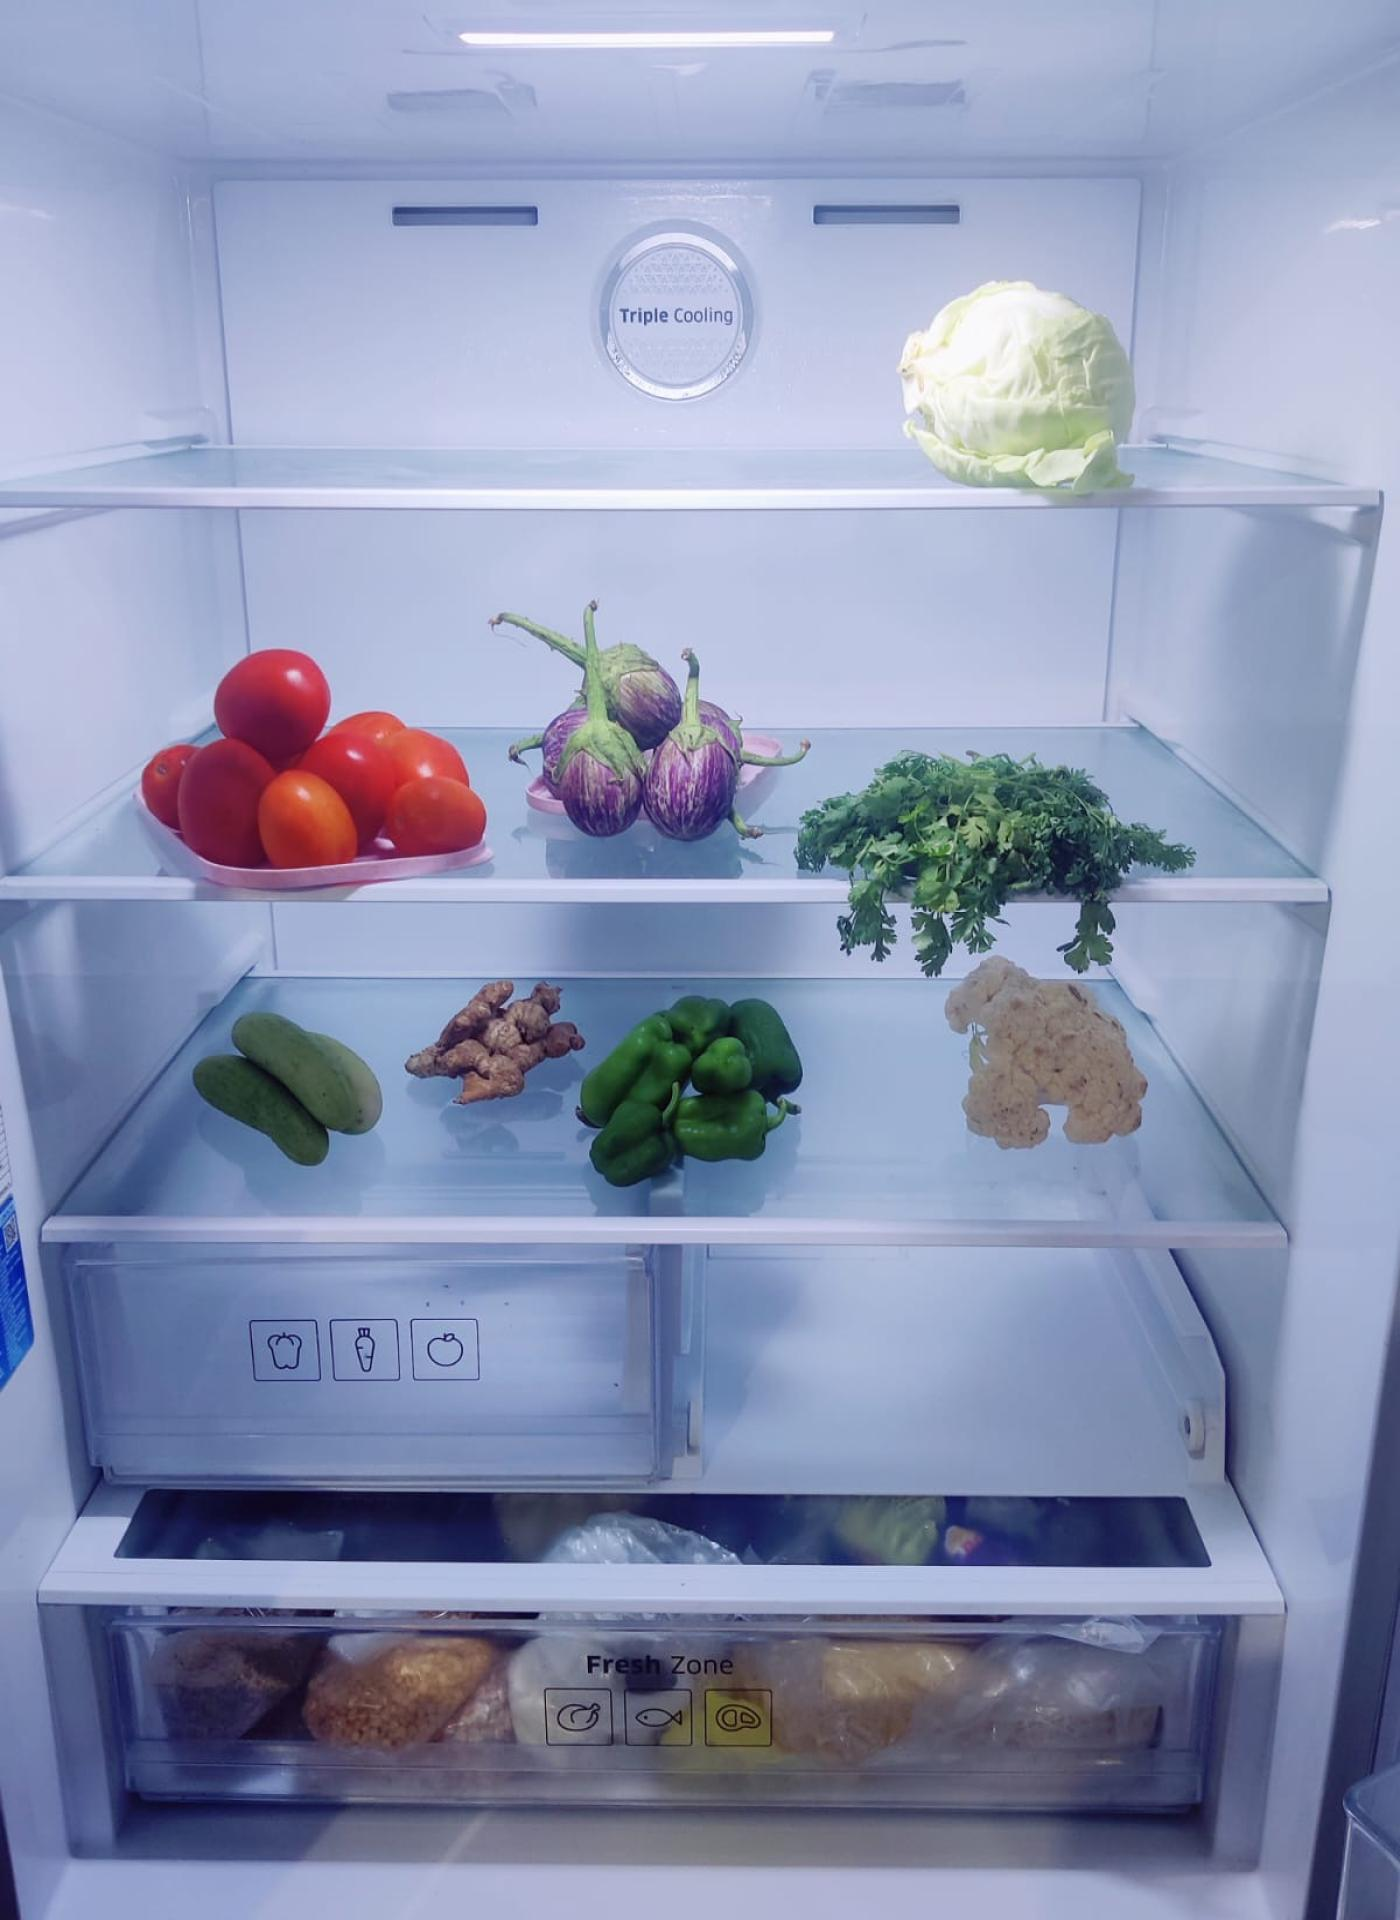brinjal: (543, 631, 740, 836)
cabbage: (902, 271, 1136, 471)
capsicum: (580, 990, 793, 1182)
cauliflower: (957, 957, 1154, 1146)
coriander: (798, 750, 1181, 920)
cucumber: (194, 1005, 386, 1161)
ginger: (409, 975, 584, 1103)
tomato: (146, 641, 483, 860)
